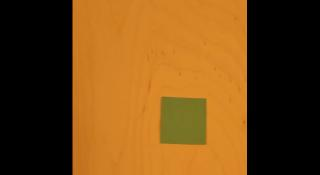Square: (161, 95, 206, 143)
